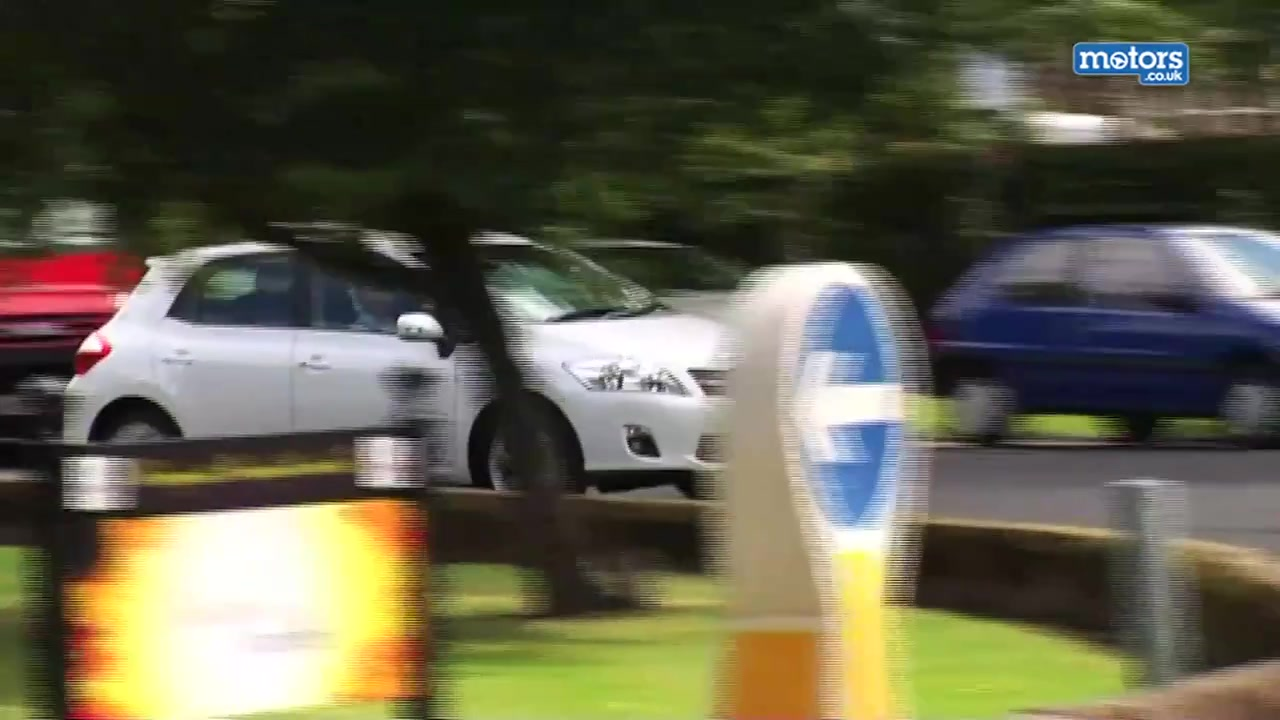car: (67, 220, 740, 494), (914, 223, 1280, 449), (562, 233, 749, 350)
